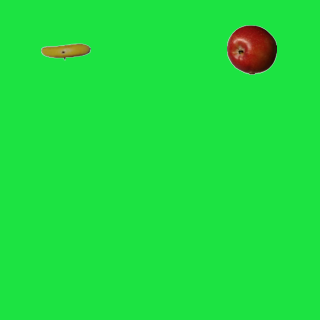Apple Braeburn: (226, 24, 276, 74)
Banana: (40, 26, 90, 76)
